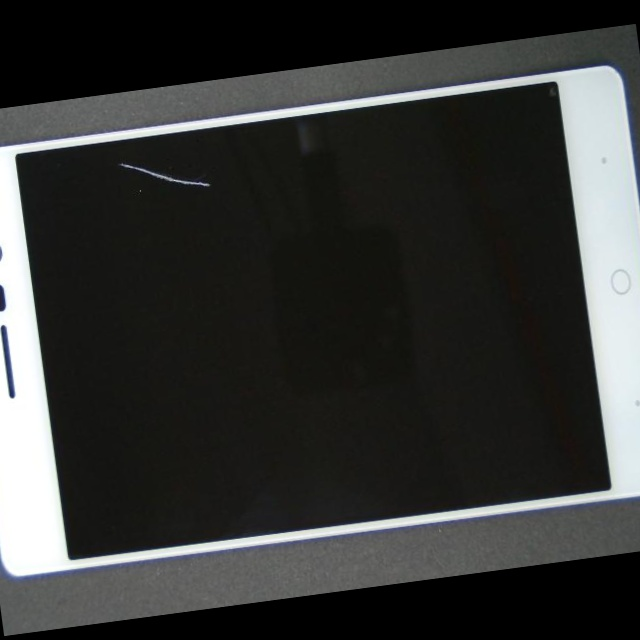scratch: (0, 112, 247, 272)
